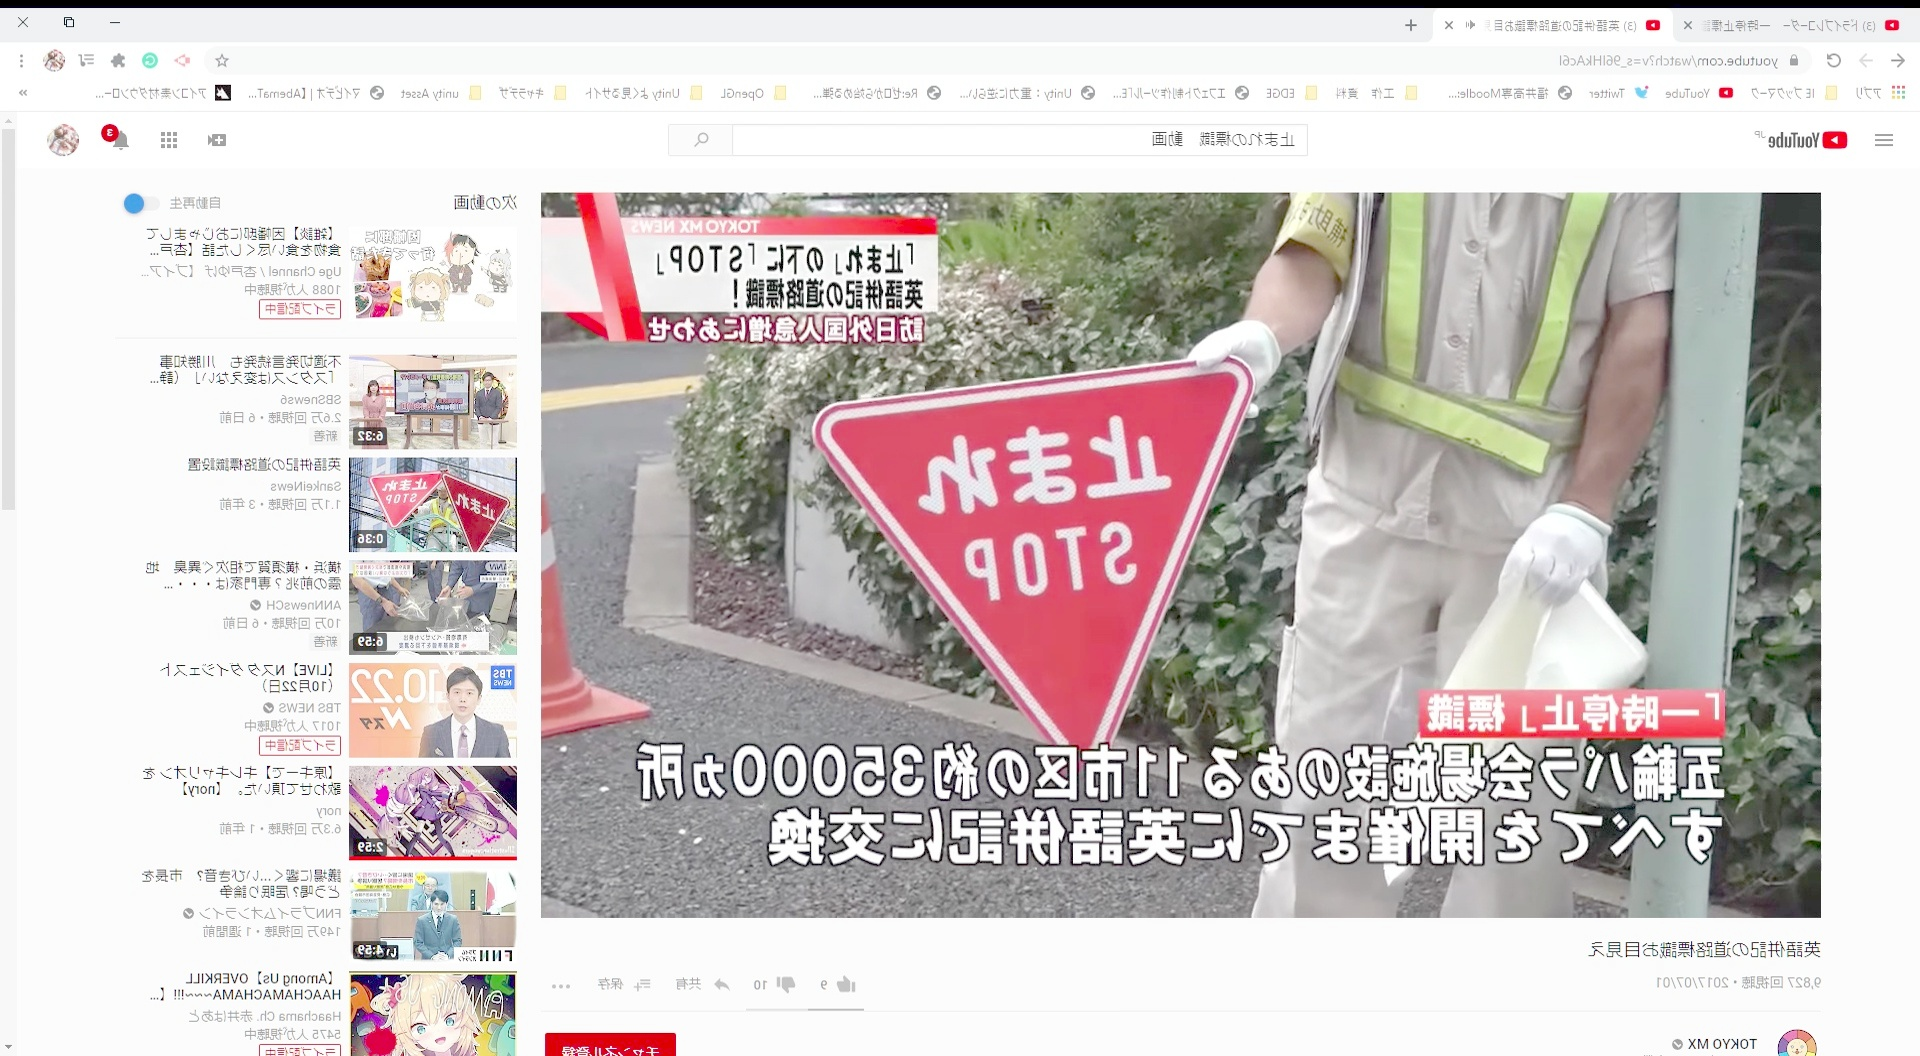Regulatory_sign_triangle: (809, 345, 1277, 793)
